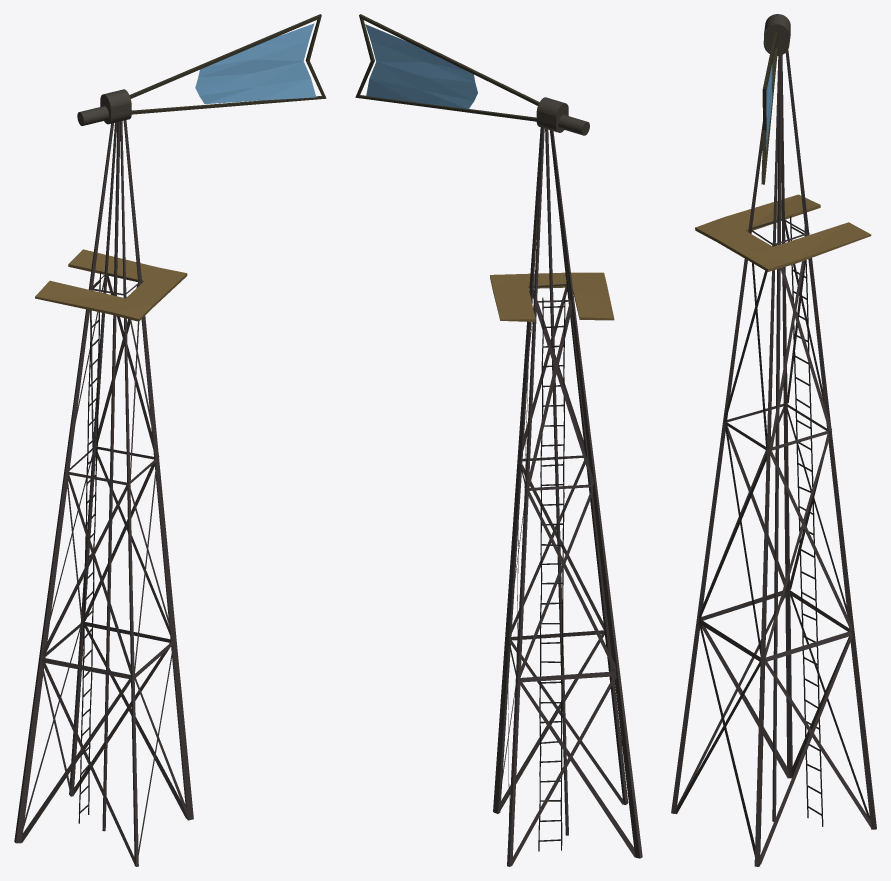
The model's file is corpoMoinho.obj.
The picture shows the model from 3 angles, left to right: view 1: azimuth 30°, elevation 25°; view 2: azimuth 150°, elevation 25°; view 3: azimuth 270°, elevation 25°; orthographic projection. The views are drawn at different scales.
Visible parts, largest first — view 1: platform_Cube.001; view 2: platform_Cube.001; view 3: platform_Cube.001.
Part boxes in pixels (x1,y1,x2,y2): platform_Cube.001: (14,14,326,866); platform_Cube.001: (355,14,642,866); platform_Cube.001: (671,14,876,866).
Bounding box in the file's own units: 17.64 × 43.43 × 9.55.
